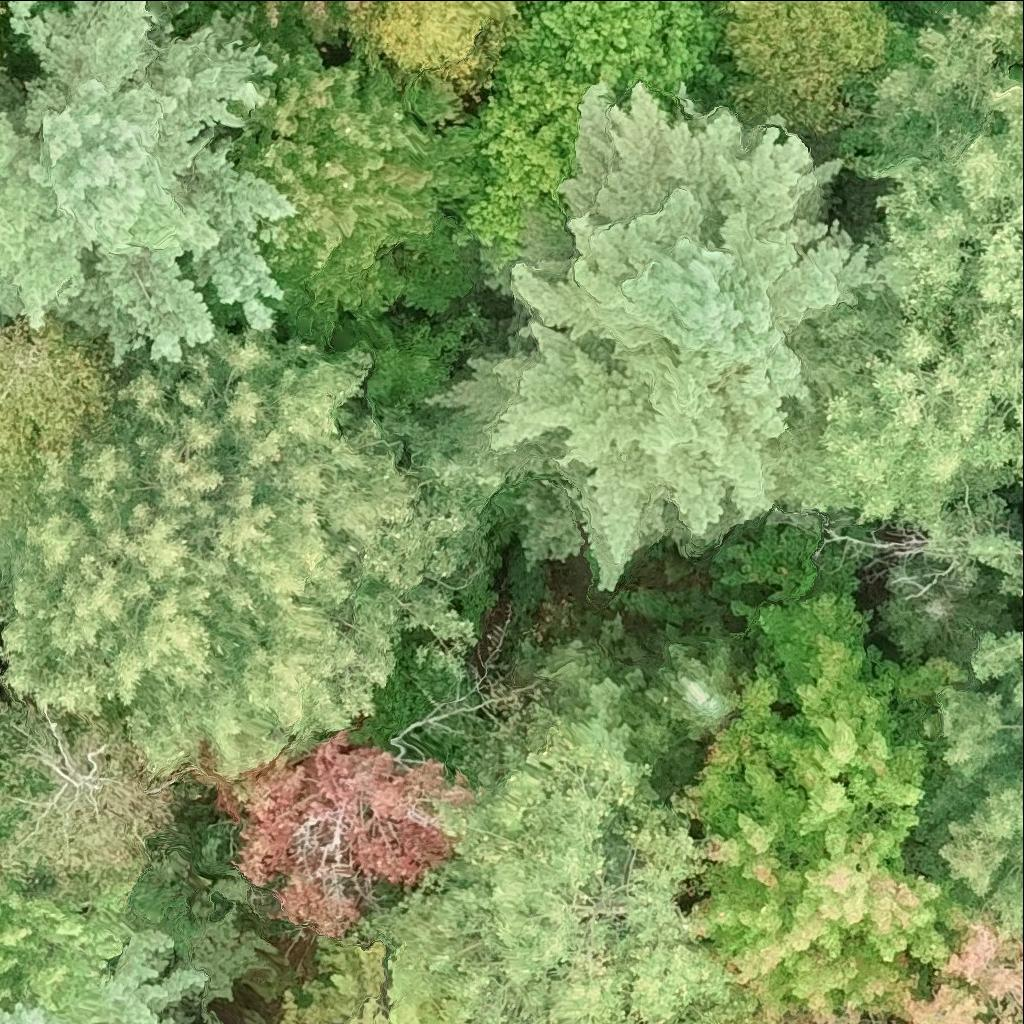crown: (426, 81, 879, 589), (0, 339, 476, 777), (763, 0, 1023, 524), (670, 597, 977, 1023), (0, 0, 296, 368), (376, 741, 752, 1023), (206, 119, 487, 335), (185, 725, 474, 934), (0, 695, 189, 895), (459, 11, 586, 292), (223, 43, 484, 157), (718, 0, 923, 140), (0, 322, 126, 542), (533, 0, 717, 122), (0, 931, 208, 1023), (0, 877, 137, 1014), (274, 924, 444, 1023), (883, 557, 1011, 659), (368, 0, 519, 82), (909, 924, 1023, 1023), (935, 770, 1023, 891), (650, 637, 744, 739), (917, 517, 1023, 602), (942, 683, 1023, 780), (987, 863, 1023, 923), (968, 630, 1023, 668), (919, 0, 994, 24), (0, 521, 23, 576), (1009, 0, 1023, 66), (262, 0, 283, 21), (304, 0, 323, 17), (1009, 62, 1023, 79), (745, 1017, 780, 1023)
